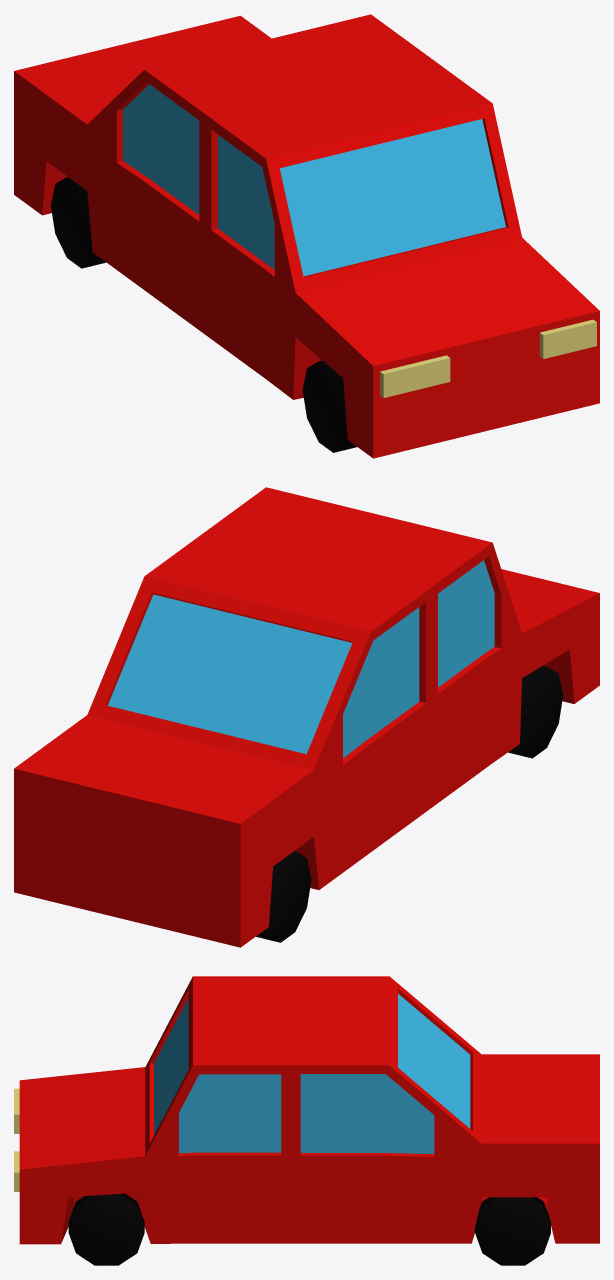
The model's file is lowpolycar.fbx.
3 views of the same model, one above another, from view 1: azimuth 30°, elevation 25°; view 2: azimuth 150°, elevation 25°; view 3: azimuth 270°, elevation 25° (orthographic). The views are drawn at different scales.
Parts seen in each view (by area): view 1: Plane, Cylinder.001; view 2: Plane, Cylinder.001; view 3: Plane, Cylinder.001.
Part boxes in pixels (<box>): Plane: <box>14,14,599,458</box>; Cylinder.001: <box>50,177,356,452</box>; Plane: <box>14,487,599,947</box>; Cylinder.001: <box>256,666,563,942</box>; Plane: <box>14,976,599,1244</box>; Cylinder.001: <box>68,1193,550,1265</box>.
Size of the model in its own units: 215 by 228 by 596.
